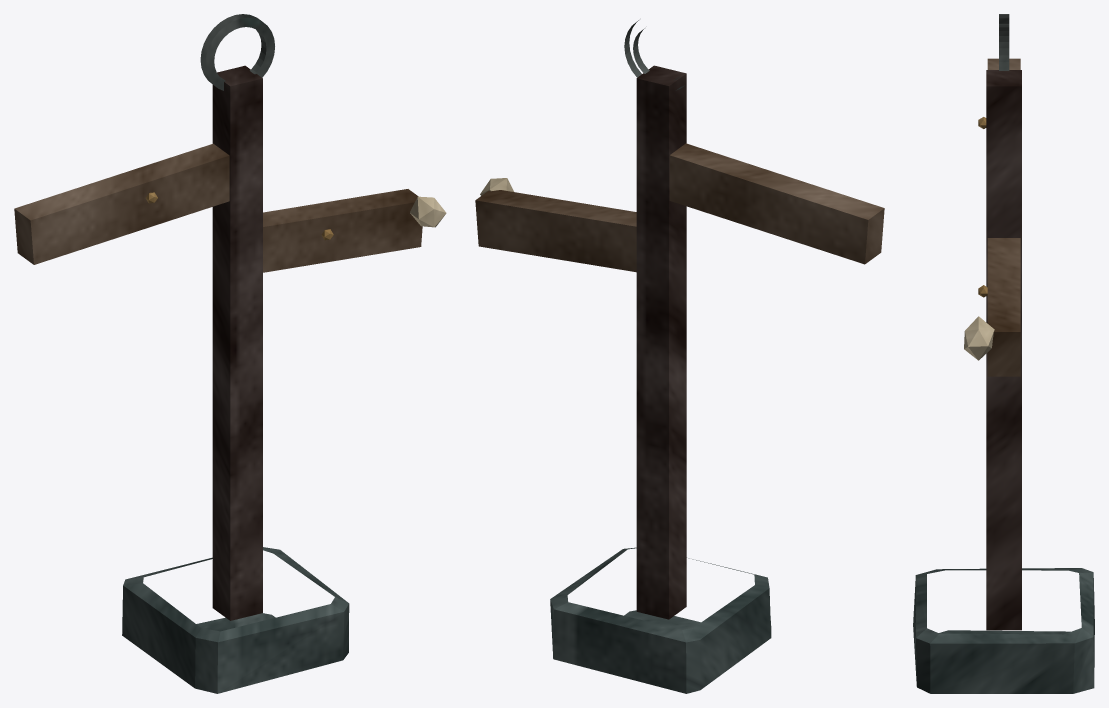
Rendered from 0629_signpost_04.glb.
3 views of the same model, side by side, from view 1: azimuth 30°, elevation 25°; view 2: azimuth 150°, elevation 25°; view 3: azimuth 270°, elevation 25° (orthographic). The views are drawn at different scales.
Visible parts, largest first — view 1: wood_dark, wood, stone_dark, iron, bone; view 2: wood_dark, wood, stone_dark; view 3: wood_dark, stone_dark, wood, bone, iron.
Boxes of the visible parts, x1,y1,x2,y2 form: wood_dark: [212, 65, 262, 620]; wood: [14, 143, 422, 272]; stone_dark: [122, 547, 349, 693]; iron: [200, 14, 274, 90]; bone: [410, 196, 446, 227]; wood_dark: [636, 65, 686, 619]; wood: [475, 143, 884, 272]; stone_dark: [550, 547, 771, 693]; wood_dark: [986, 70, 1021, 630]; stone_dark: [913, 568, 1094, 693]; wood: [987, 58, 1020, 376]; bone: [964, 316, 994, 360]; iron: [999, 14, 1009, 70].
Size of the model in its own units: 1.87 by 2.78 by 0.7112.
6 materials, 6 textured.
